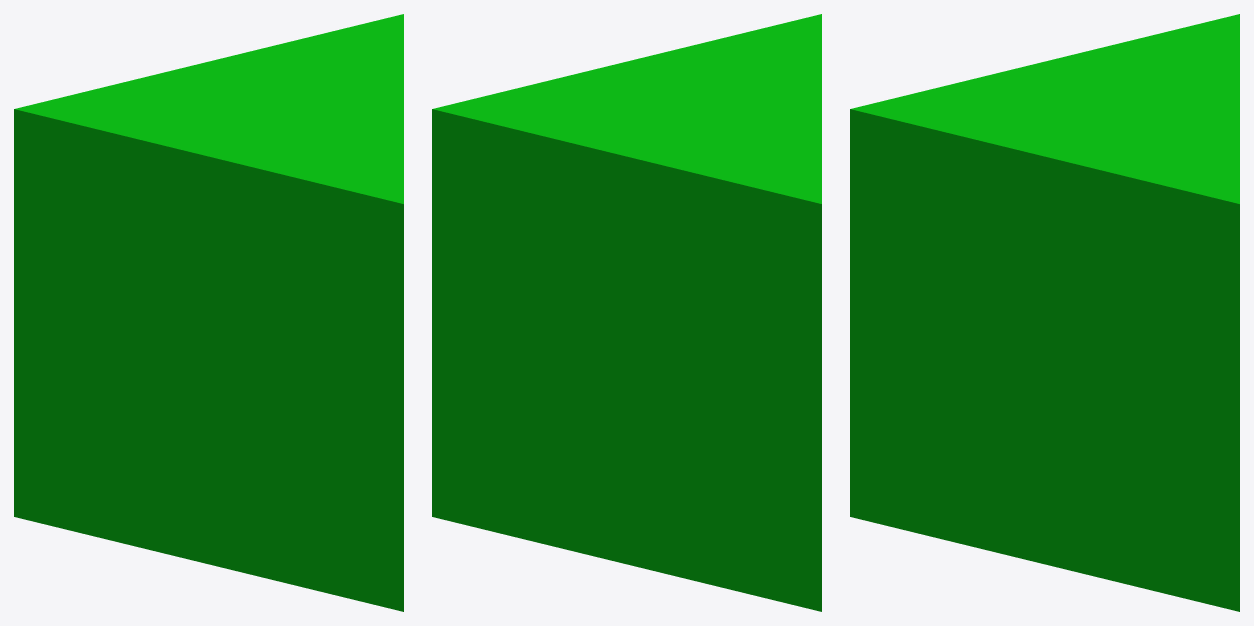
Rendered from triangular_pillar.dae.
3 renders of one model, left to right at view 1: azimuth 30°, elevation 25°; view 2: azimuth 150°, elevation 25°; view 3: azimuth 270°, elevation 25°, orthographic.
Visible parts, largest first — view 1: Cube; view 2: Cube; view 3: Cube.
Boxes of the visible parts, bbox=[...] form: Cube: bbox=[14, 14, 403, 611]; Cube: bbox=[432, 14, 821, 611]; Cube: bbox=[850, 14, 1239, 611].
Size of the model in its own units: 0.05 by 0.0433 by 0.05.
